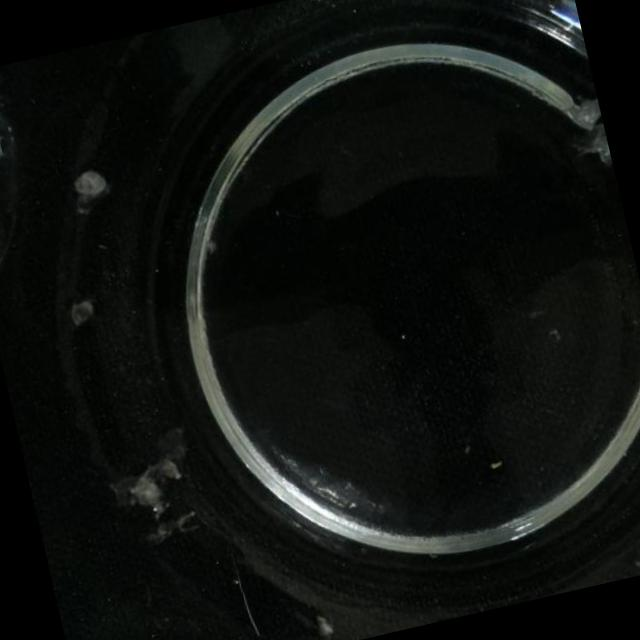fiber: (110, 442, 202, 538), (560, 91, 604, 138), (589, 138, 616, 184), (625, 540, 640, 575)
